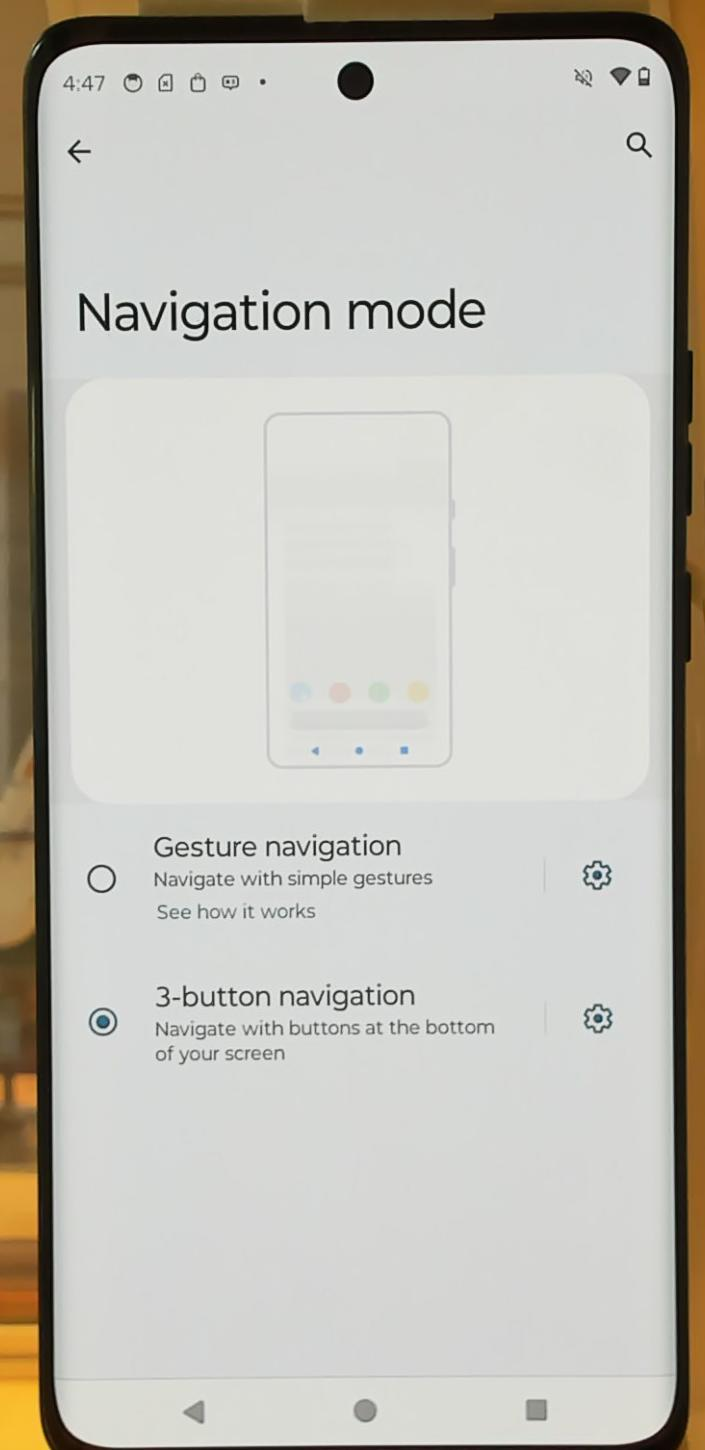RadioButton: (84, 972, 503, 1076), (81, 825, 442, 930)
